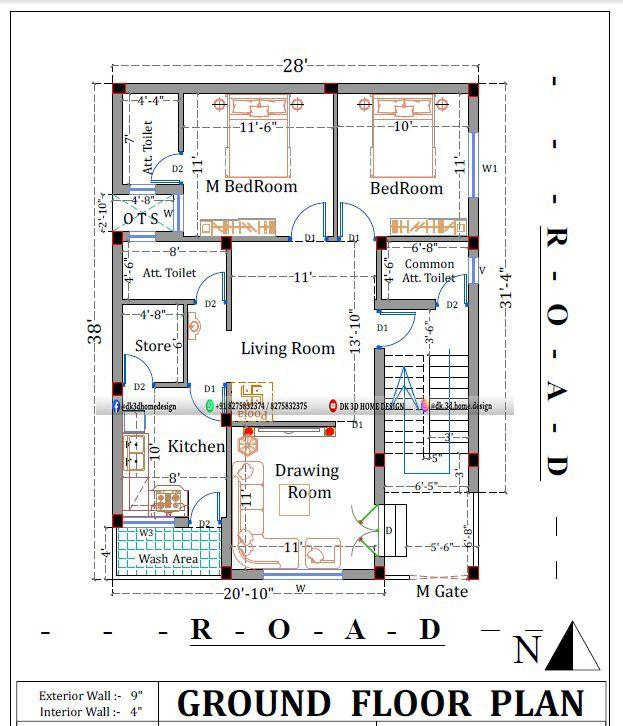Blueprint: (105, 77, 486, 584)
wall: (126, 81, 326, 95), (467, 281, 480, 454), (336, 81, 470, 96), (220, 425, 232, 567), (111, 244, 123, 382), (111, 395, 124, 514), (372, 346, 386, 454), (111, 93, 124, 196), (332, 93, 339, 242), (372, 298, 438, 311), (230, 420, 337, 428), (385, 234, 470, 243), (155, 231, 222, 242), (225, 249, 233, 332), (373, 466, 387, 506), (467, 195, 480, 238), (121, 298, 196, 305), (467, 95, 480, 134), (375, 251, 383, 310), (232, 235, 290, 243), (342, 568, 376, 581), (177, 92, 184, 152), (231, 568, 265, 580), (154, 183, 185, 196), (183, 304, 188, 382), (467, 465, 480, 494), (225, 381, 233, 415), (152, 381, 188, 388), (174, 516, 190, 529), (373, 555, 386, 568), (467, 248, 480, 259), (122, 231, 130, 243), (324, 236, 335, 243)
